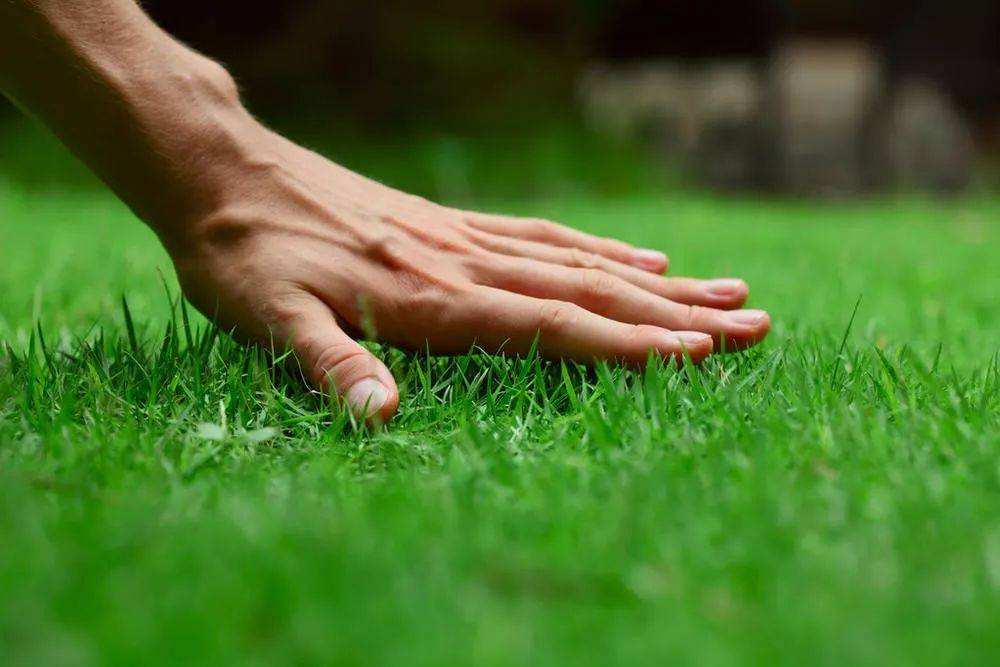no-phone: (146, 94, 776, 425)
